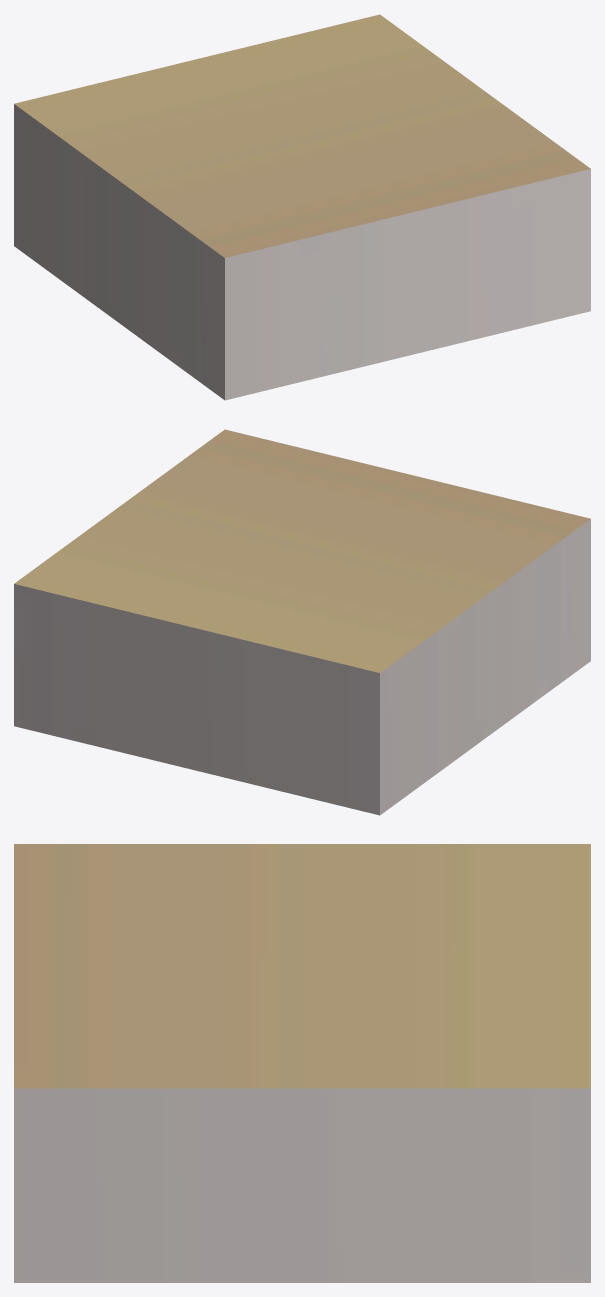
Rendered from Backup Building .glb.
The picture shows the model from 3 angles, top to bottom: view 1: azimuth 30°, elevation 25°; view 2: azimuth 150°, elevation 25°; view 3: azimuth 270°, elevation 25°; orthographic projection. The views are drawn at different scales.
Parts seen in each view (by area): view 1: Walls; view 2: Walls; view 3: Walls.
Boxes of the visible parts, x1=… form: Walls: x1=14, y1=14, x2=590, y2=400; Walls: x1=14, y1=429, x2=590, y2=815; Walls: x1=14, y1=844, x2=590, y2=1282.
Size of the model in its own units: 33.98 by 12.63 by 33.92.
28 materials, 27 textured.
